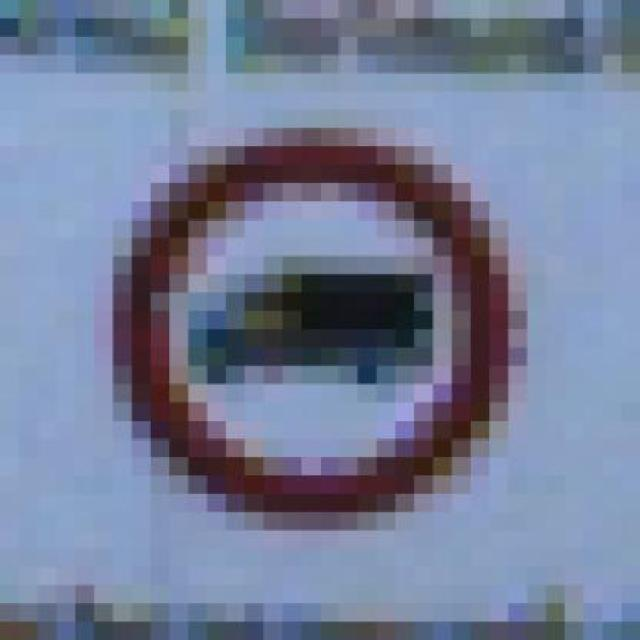Truck traffic is prohibited: (76, 128, 546, 530)
